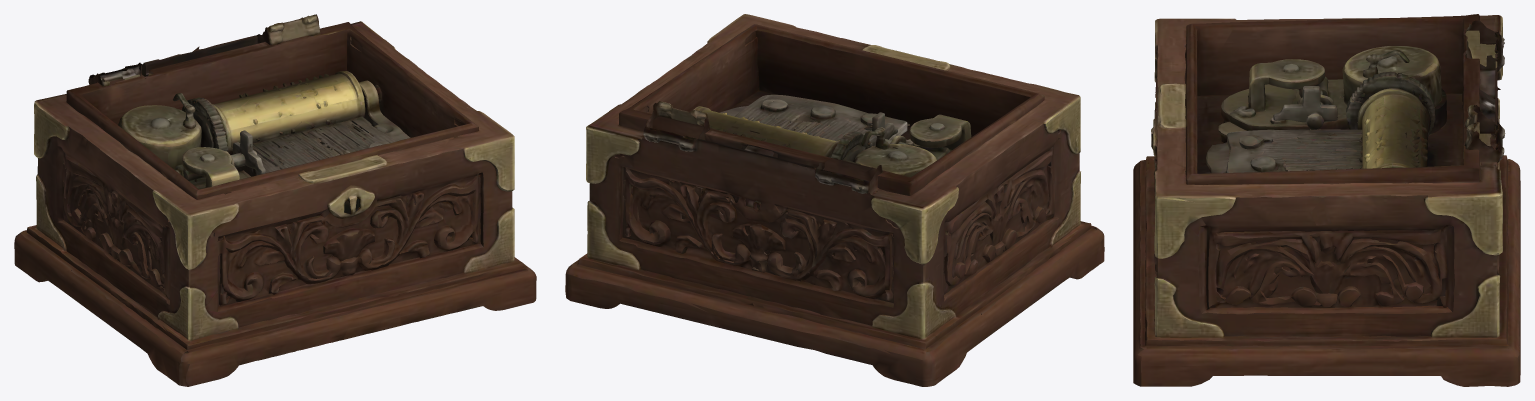
The picture shows the model from 3 angles, left to right: view 1: azimuth 30°, elevation 25°; view 2: azimuth 150°, elevation 25°; view 3: azimuth 270°, elevation 25°; orthographic projection. The views are drawn at different scales.
Parts seen in each view (by area): view 1: world; view 2: world; view 3: world.
Part boxes in pixels (bbox=[...]): world: bbox=[14, 14, 536, 386]; world: bbox=[565, 14, 1104, 386]; world: bbox=[1133, 14, 1520, 386].
Size of the model in its own units: 0.28 by 0.1458 by 0.2341.
1 material, 1 textured.
